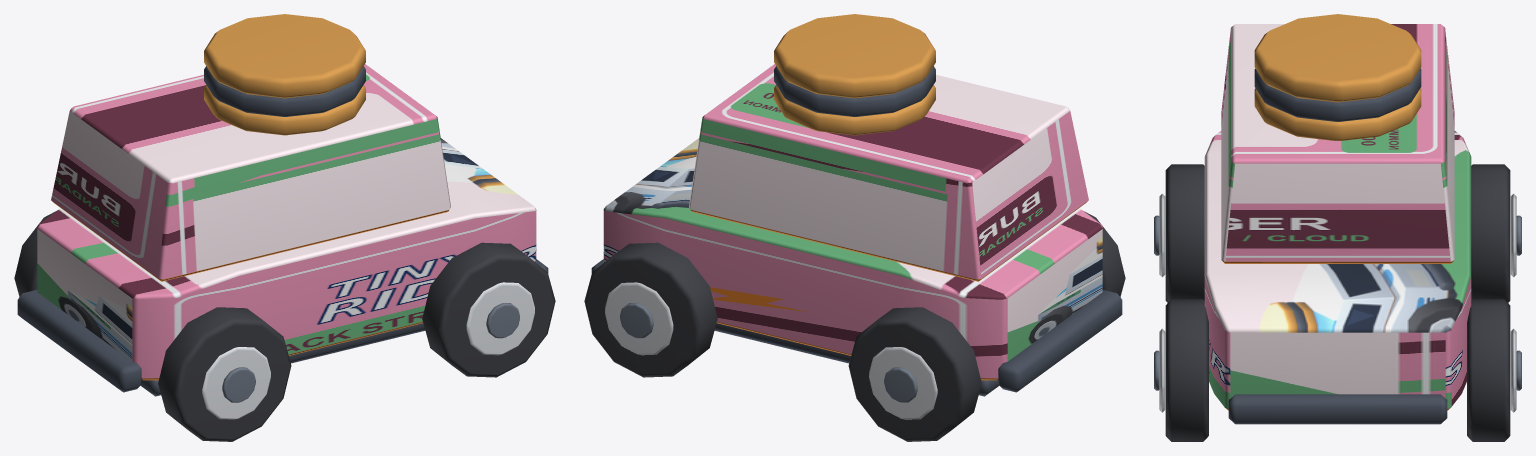
The picture shows the model from 3 angles, left to right: view 1: azimuth 30°, elevation 25°; view 2: azimuth 150°, elevation 25°; view 3: azimuth 270°, elevation 25°; orthographic projection. The views are drawn at different scales.
Parts seen in each view (by area): view 1: SS-03_cabin, SS-03_connected_shell, burger layer.002, Tire, Tire.002, front bumper, burger layer.001, burger layer, Rim, Rim.002, underbody, Tire.001 (+2 smaller); view 2: SS-03_cabin, SS-03_connected_shell, burger layer.002, Tire.001, Tire.003, front bumper, burger layer.001, burger layer, Rim.001, Rim.003, underbody, Tire (+2 smaller); view 3: SS-03_connected_shell, SS-03_cabin, burger layer.002, rear bumper, Tire.002, Tire.003, Tire, Tire.001, burger layer.001, burger layer, Rim, Rim.001 (+2 smaller).
Part boxes in pixels (bbox=[...]): SS-03_cabin: bbox=[51, 64, 450, 281]; SS-03_connected_shell: bbox=[37, 138, 536, 380]; burger layer.002: bbox=[204, 14, 365, 98]; Tire: bbox=[158, 307, 291, 441]; Tire.002: bbox=[422, 242, 555, 377]; front bumper: bbox=[17, 290, 142, 392]; burger layer.001: bbox=[204, 66, 365, 116]; burger layer: bbox=[204, 85, 365, 135]; Rim: bbox=[202, 347, 270, 419]; Rim.002: bbox=[466, 282, 534, 355]; underbody: bbox=[140, 323, 425, 396]; Tire.001: bbox=[14, 211, 55, 296]; SS-03_cabin: bbox=[689, 64, 1088, 281]; SS-03_connected_shell: bbox=[603, 138, 1102, 380]; burger layer.002: bbox=[774, 14, 935, 98]; Tire.001: bbox=[848, 307, 981, 441]; Tire.003: bbox=[584, 242, 717, 377]; front bumper: bbox=[997, 290, 1122, 392]; burger layer.001: bbox=[774, 66, 935, 116]; burger layer: bbox=[774, 85, 935, 135]; Rim.001: bbox=[869, 347, 937, 419]; Rim.003: bbox=[605, 282, 673, 355]; underbody: bbox=[714, 323, 999, 396]; Tire: bbox=[1084, 211, 1125, 296]; SS-03_connected_shell: bbox=[1204, 131, 1471, 410]; SS-03_cabin: bbox=[1221, 24, 1454, 263]; burger layer.002: bbox=[1254, 14, 1421, 102]; rear bumper: bbox=[1228, 394, 1447, 424]; Tire.002: bbox=[1165, 299, 1208, 441]; Tire.003: bbox=[1467, 299, 1510, 441]; Tire: bbox=[1165, 164, 1204, 302]; Tire.001: bbox=[1471, 164, 1510, 302]; burger layer.001: bbox=[1254, 68, 1421, 121]; burger layer: bbox=[1254, 88, 1421, 140]; Rim: bbox=[1159, 193, 1165, 277]; Rim.001: bbox=[1510, 193, 1516, 277].
Size of the model in its own units: 314 by 213 by 221.
